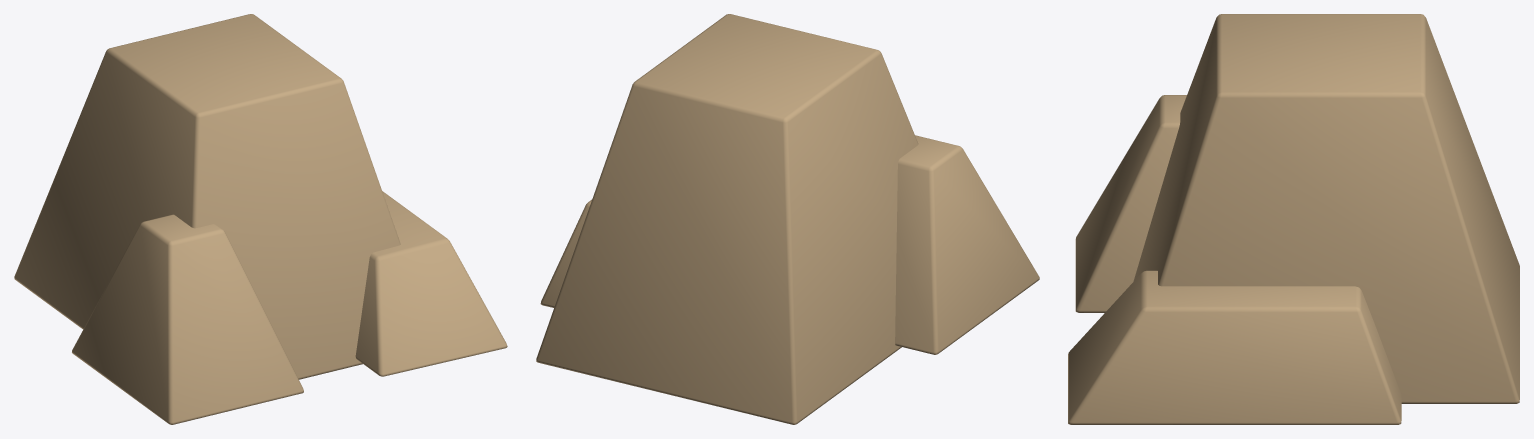
File: SmallRocks.fbx
3 views of the same model, side by side, from view 1: azimuth 30°, elevation 25°; view 2: azimuth 150°, elevation 25°; view 3: azimuth 270°, elevation 25° (orthographic). The views are drawn at different scales.
Parts seen in each view (by area): view 1: SmallRocks; view 2: SmallRocks; view 3: SmallRocks.
Part boxes in pixels (x1=…): SmallRocks: x1=14, y1=14, x2=507, y2=424; SmallRocks: x1=536, y1=14, x2=1039, y2=424; SmallRocks: x1=1068, y1=14, x2=1519, y2=424.
Size of the model in its own units: 2.23 by 1.59 by 2.29.
